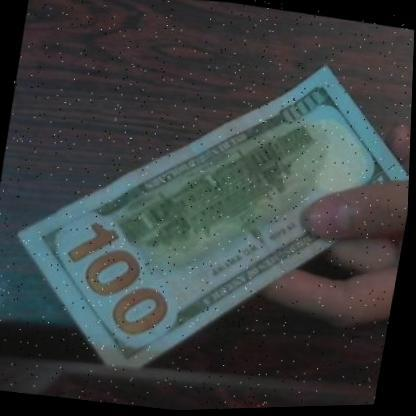one_hundred-back: (0, 6, 416, 416)
